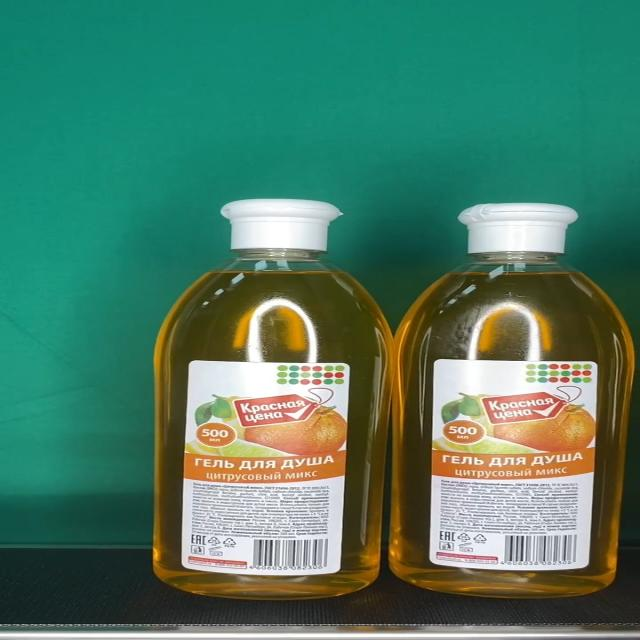Bottle: (392, 202, 636, 598), (154, 200, 394, 599)
Cap: (457, 203, 578, 254), (220, 200, 340, 250)
